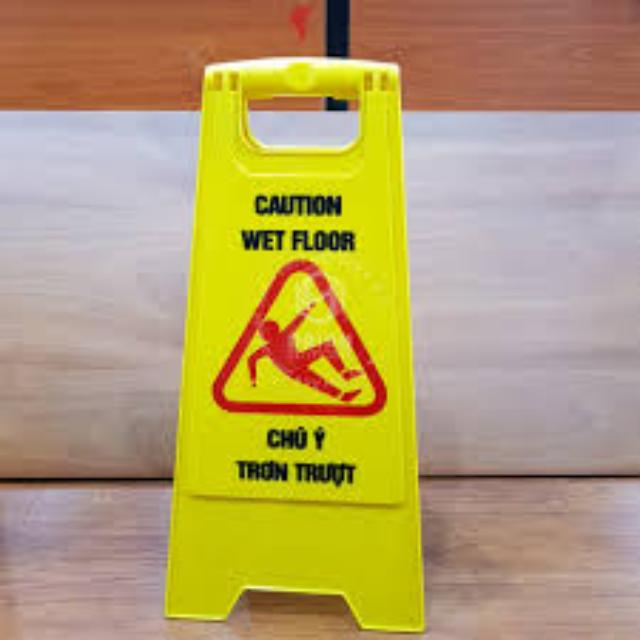slippery_floor: (168, 57, 421, 629)
